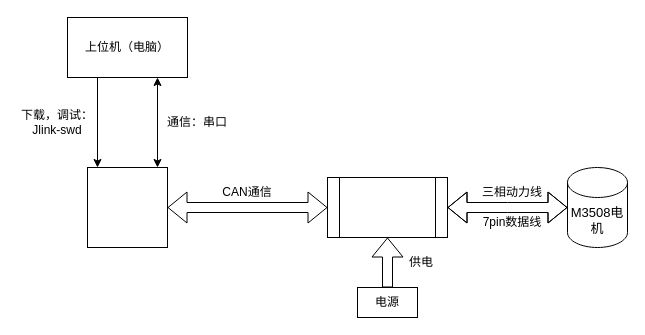
This 645x335 diagram has some shape labels left out. Each missing label, with the box of its shape:
c602电调: (326, 176, 448, 238)
单片机: (86, 166, 168, 248)
